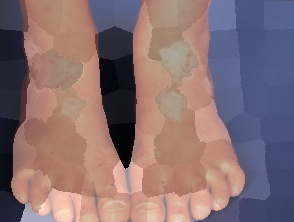vitiligo: (0, 17, 115, 129), (150, 26, 204, 133)
